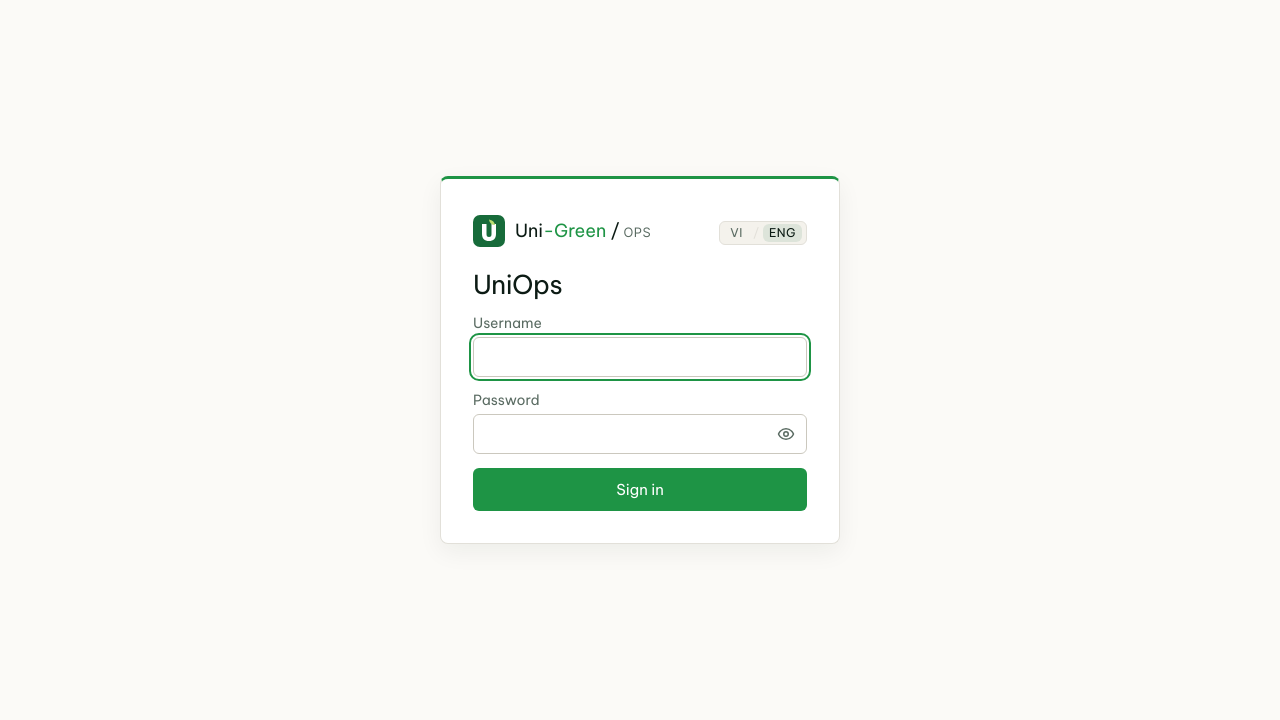
App › opens the order desk once credentials are accepted
Type "office" into the field labelled "Username" at (640, 357), box [473,337,807,377]
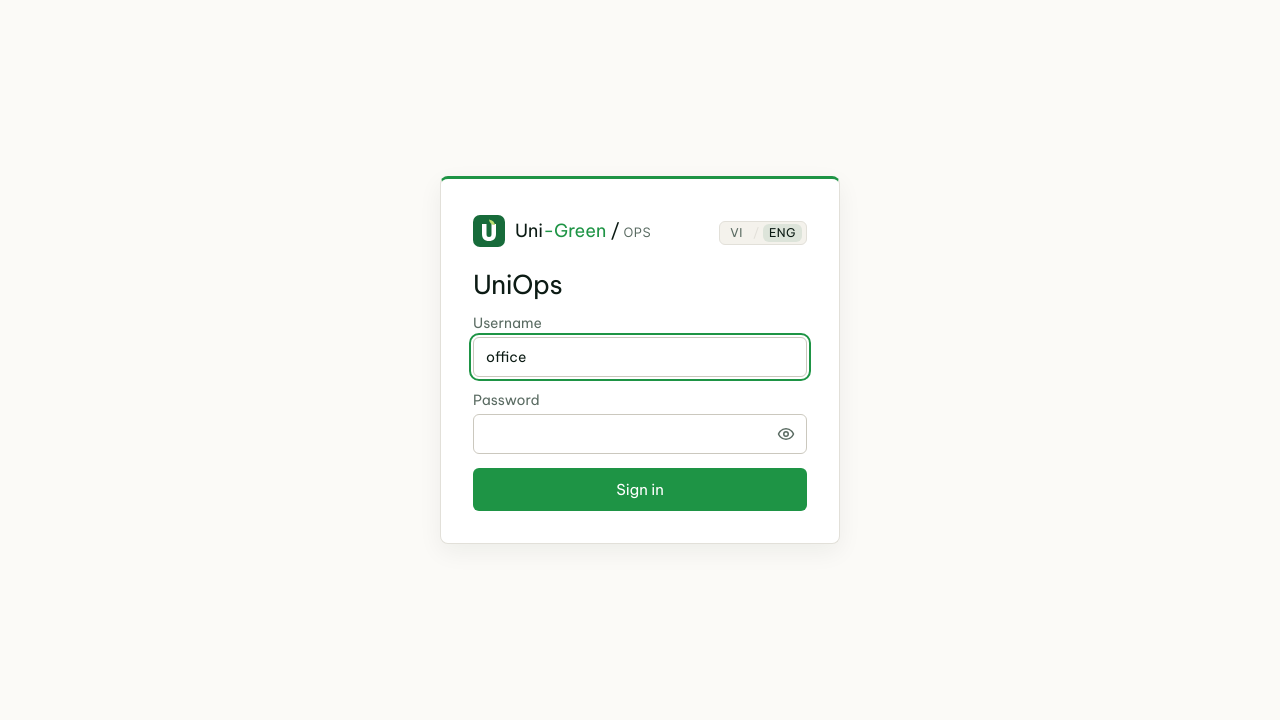
Type "office-password-01" into the password field labelled "Password" at (640, 434), box [473,414,807,454]
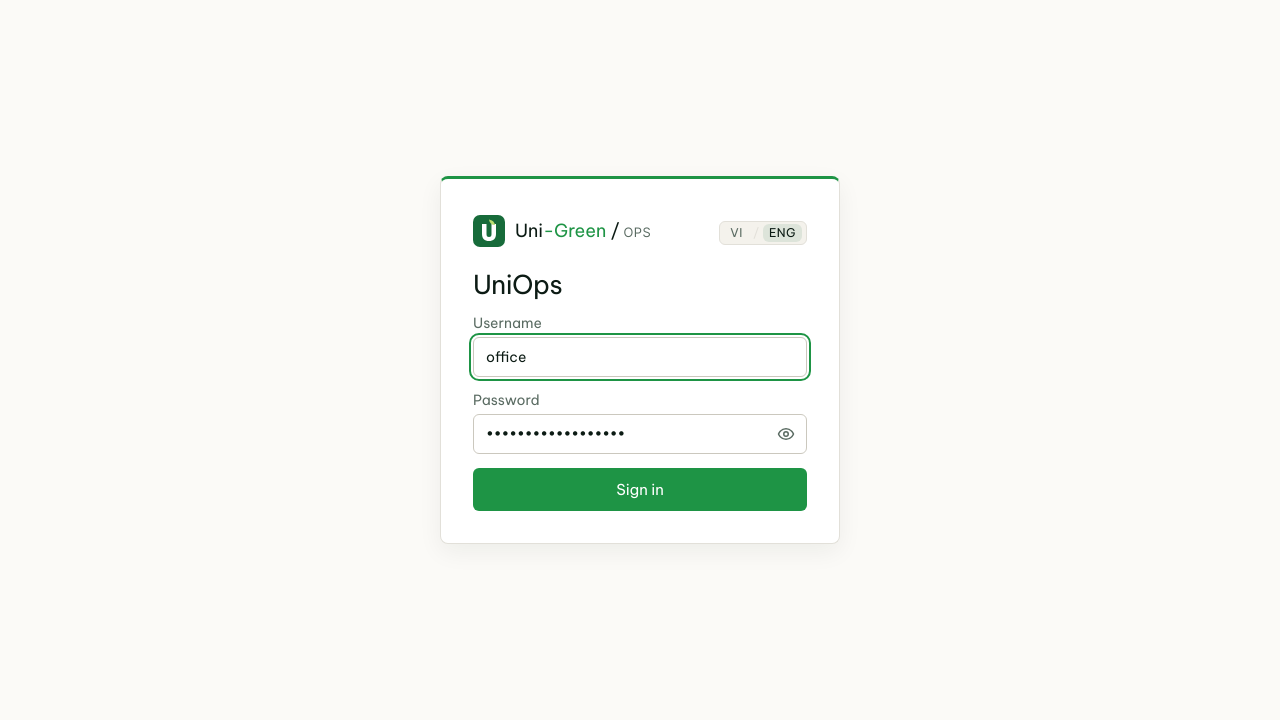
Click the button "Sign in" at (640, 490), box [473,468,807,511]
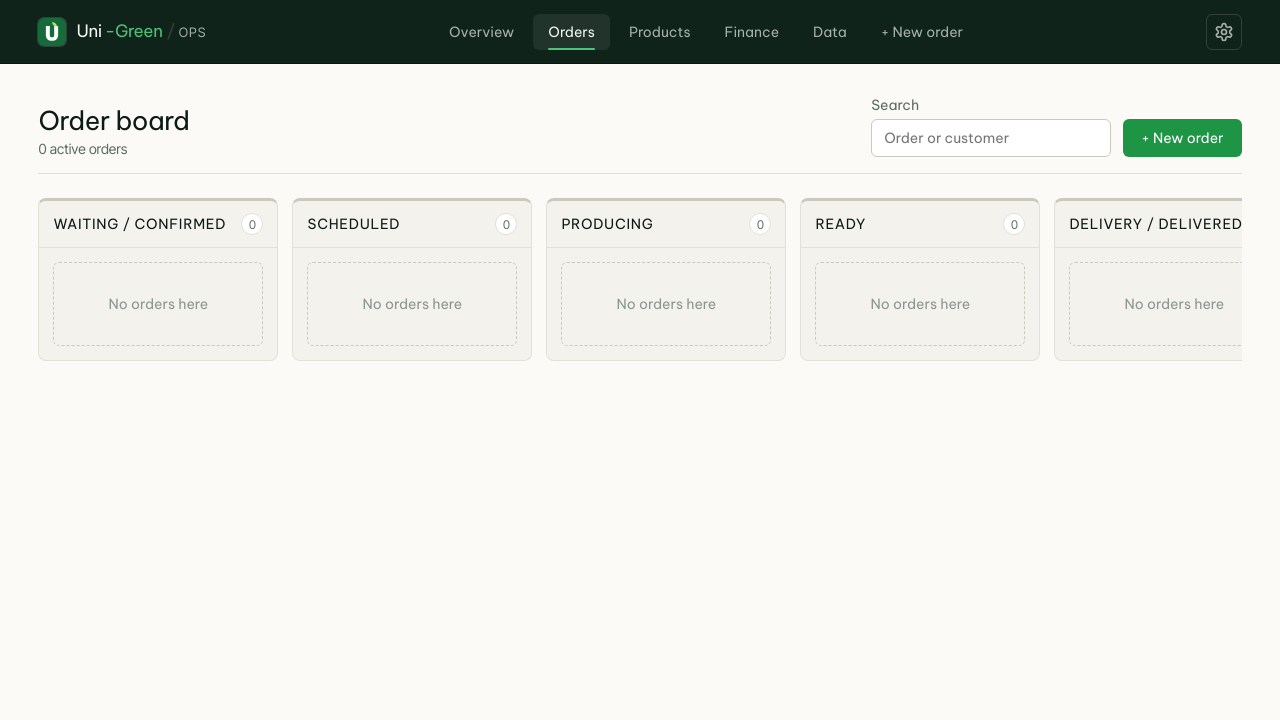
Now the heading "Order board" is shown, box [38,105,190,136]
Now the 1st button "+ New order" is shown, box [866,14,978,50]
